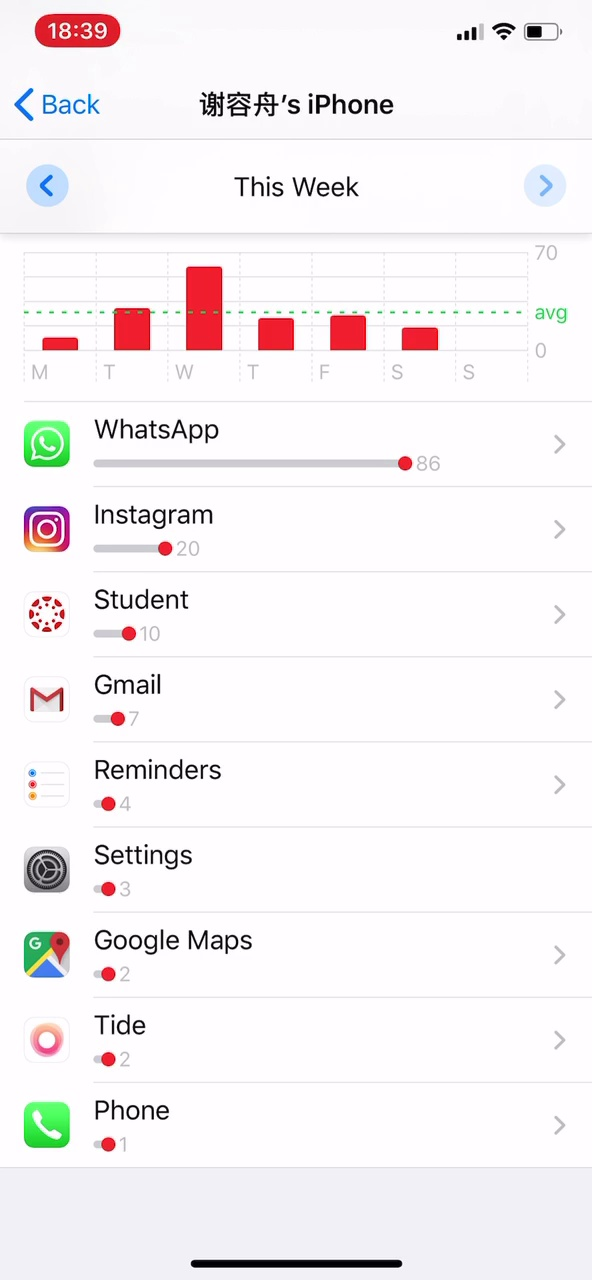not_app: (9, 407, 441, 485), (11, 918, 272, 997), (7, 744, 247, 827), (7, 489, 243, 571), (6, 834, 229, 910), (9, 656, 192, 742), (7, 1001, 186, 1082), (9, 583, 204, 657), (7, 1087, 180, 1164)
week: (223, 165, 374, 207)
